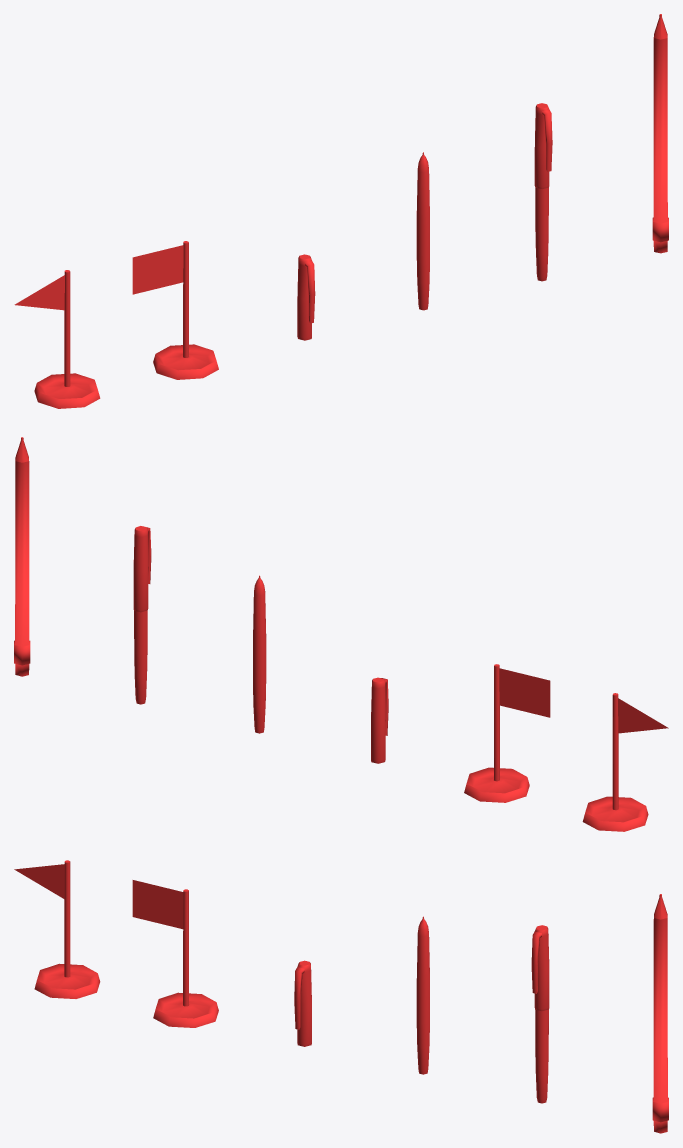
File: DeskSupplies.fbx
3 views of the same model, one above another, from view 1: azimuth 30°, elevation 25°; view 2: azimuth 150°, elevation 25°; view 3: azimuth 330°, elevation 25° (orthographic).
Visible parts, largest first — view 1: MarkerFlagRectangle_low, MarkerFlagTriangle_low, Pencil_low, Pen_low, PenBody_low, PenCap_low; view 2: MarkerFlagRectangle_low, MarkerFlagTriangle_low, Pencil_low, Pen_low, PenBody_low, PenCap_low; view 3: MarkerFlagRectangle_low, MarkerFlagTriangle_low, Pencil_low, Pen_low, PenBody_low, PenCap_low.
Part boxes in pixels (<box>): MarkerFlagRectangle_low: <box>132,241,218,379</box>; MarkerFlagTriangle_low: <box>14,270,100,408</box>; Pencil_low: <box>652,14,668,253</box>; Pen_low: <box>534,103,552,281</box>; PenBody_low: <box>416,152,429,310</box>; PenCap_low: <box>297,254,315,340</box>; MarkerFlagRectangle_low: <box>464,664,550,802</box>; MarkerFlagTriangle_low: <box>582,693,668,831</box>; Pencil_low: <box>14,437,30,676</box>; Pen_low: <box>133,526,151,704</box>; PenBody_low: <box>253,575,266,733</box>; PenCap_low: <box>371,677,388,763</box>; MarkerFlagRectangle_low: <box>132,880,218,1027</box>; MarkerFlagTriangle_low: <box>14,860,100,998</box>; Pencil_low: <box>652,894,668,1133</box>; Pen_low: <box>531,925,549,1103</box>; PenBody_low: <box>416,916,429,1074</box>; PenCap_low: <box>294,960,311,1046</box>.
Bounding box in the file's own units: 55.2 × 4.99 × 19.
